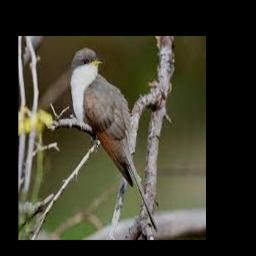Cuckoo: (70, 47, 158, 231)
